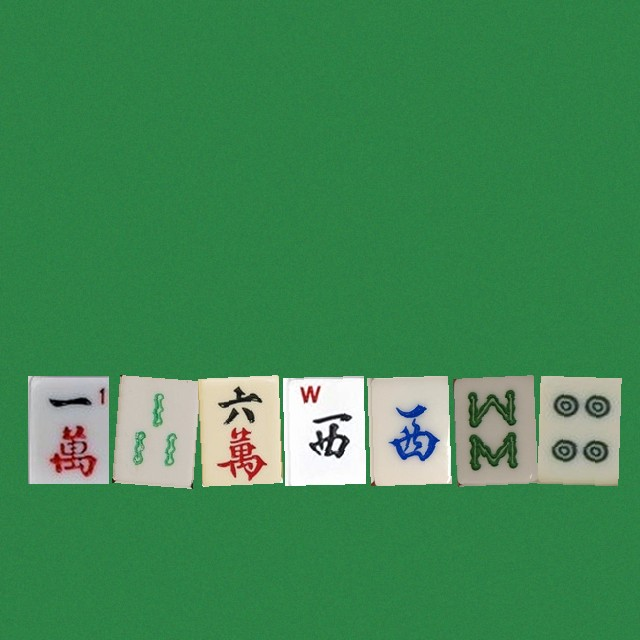tile: (27, 375, 108, 483), (112, 375, 193, 483), (197, 375, 278, 483), (282, 375, 363, 483), (367, 375, 448, 483), (452, 375, 533, 483), (537, 375, 618, 483)
